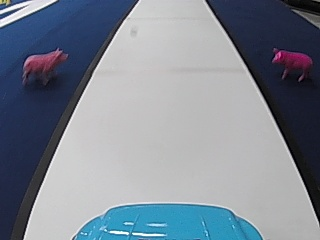pig: (21, 44, 67, 88), (268, 46, 313, 80)
